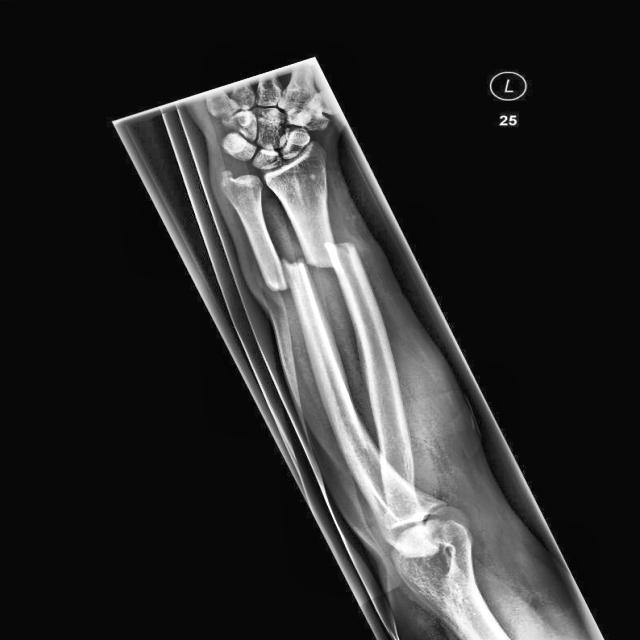fracture: (272, 255, 300, 293), (322, 238, 346, 269)
